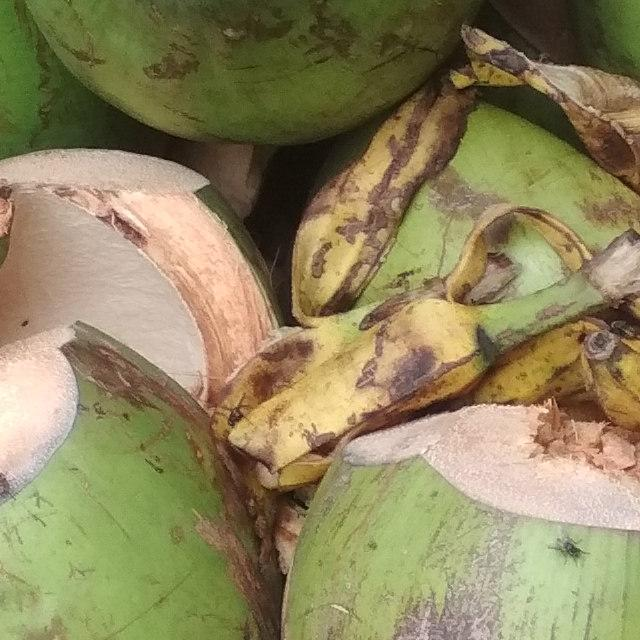food_waste: (0, 309, 333, 640), (246, 374, 640, 640), (0, 0, 565, 171)
